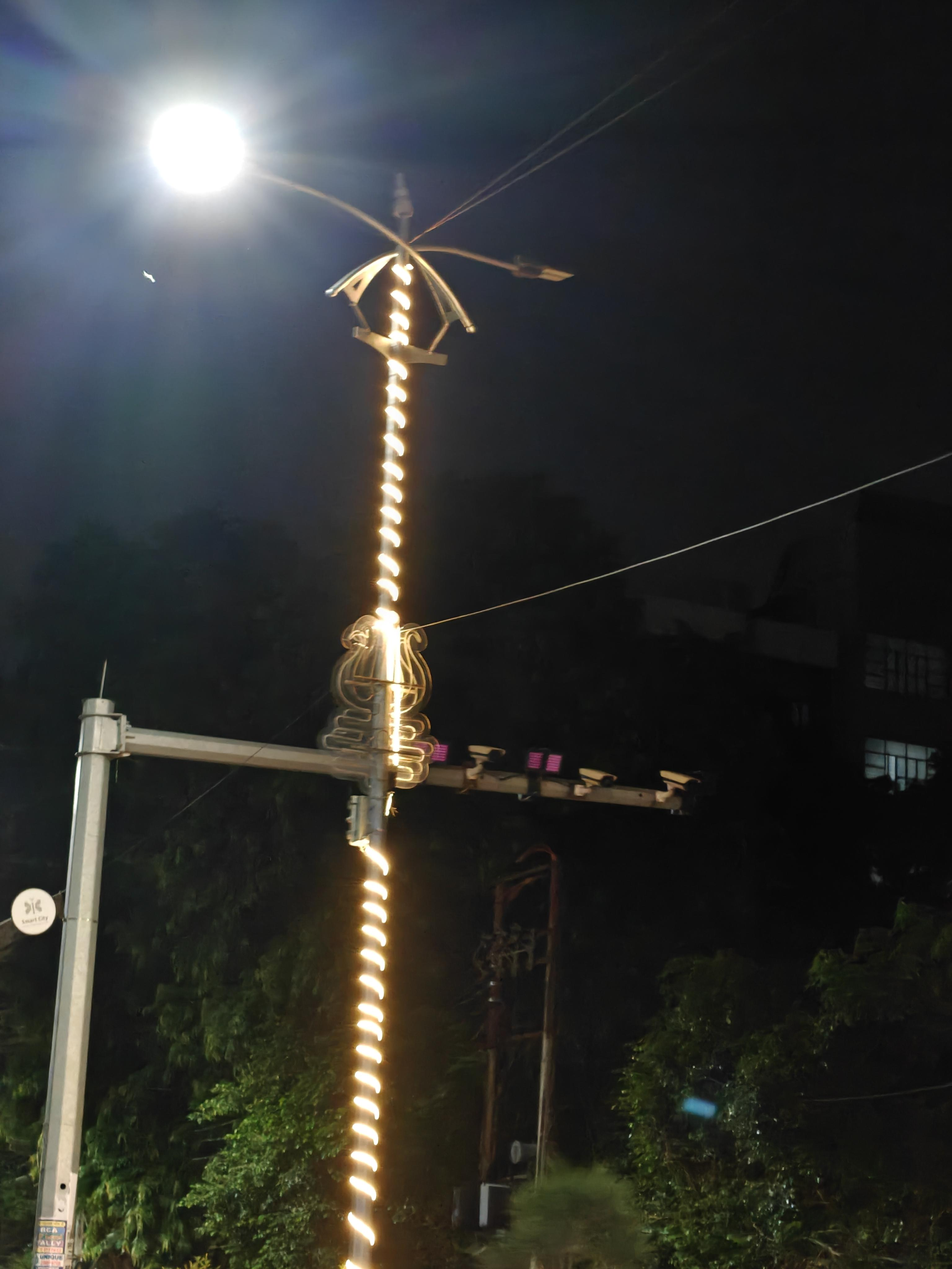streetlight: (457, 242, 575, 285)
